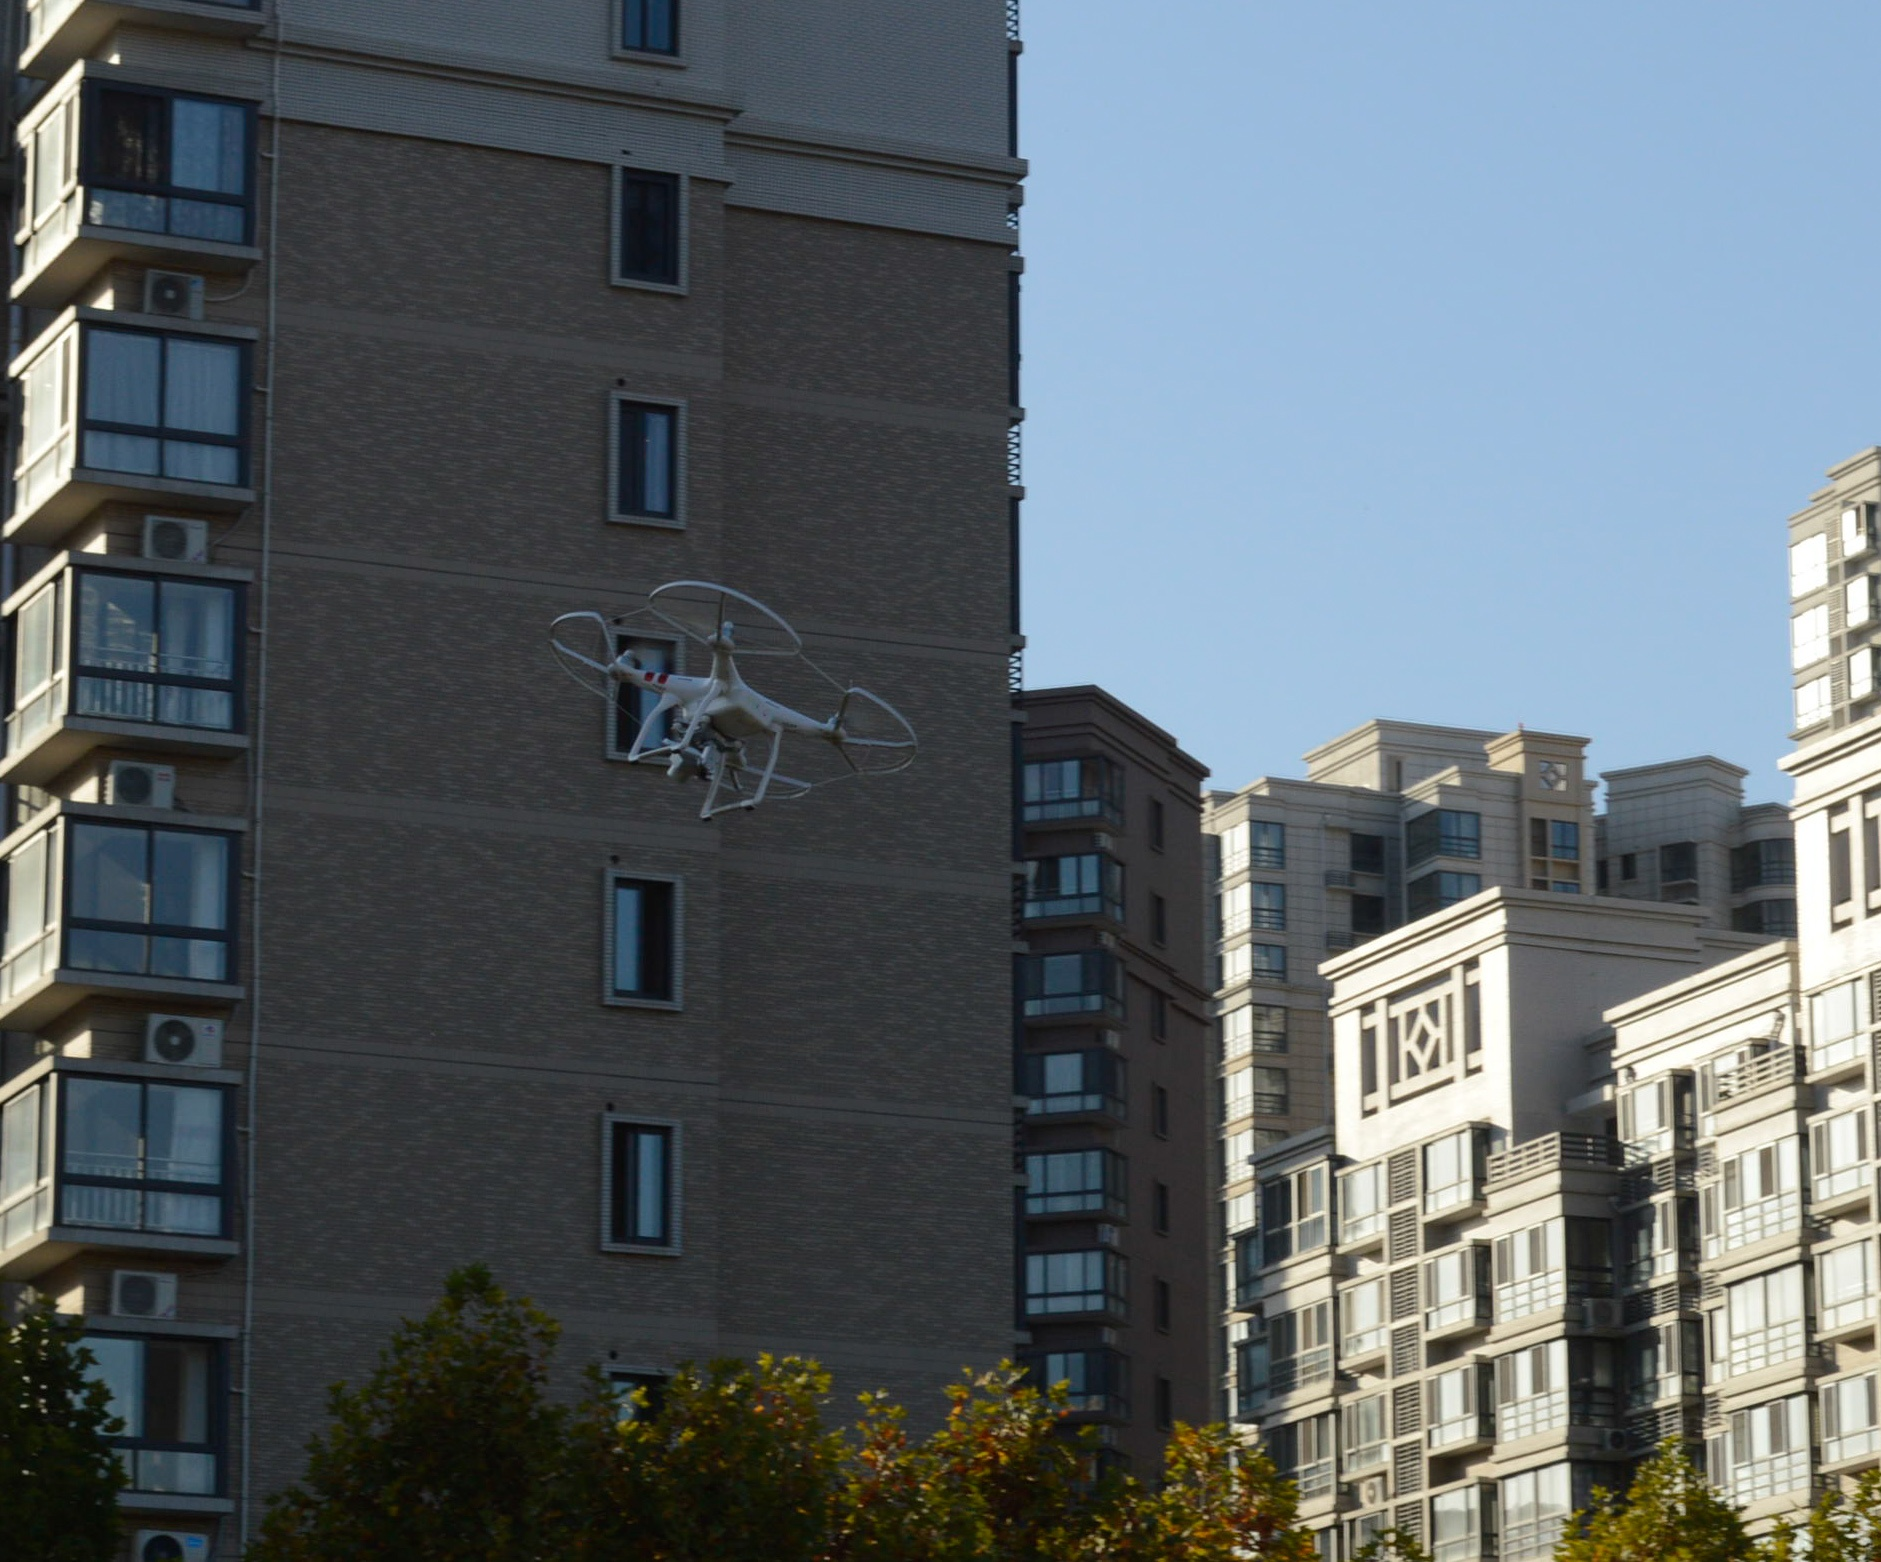DJI: (544, 576, 919, 823)
